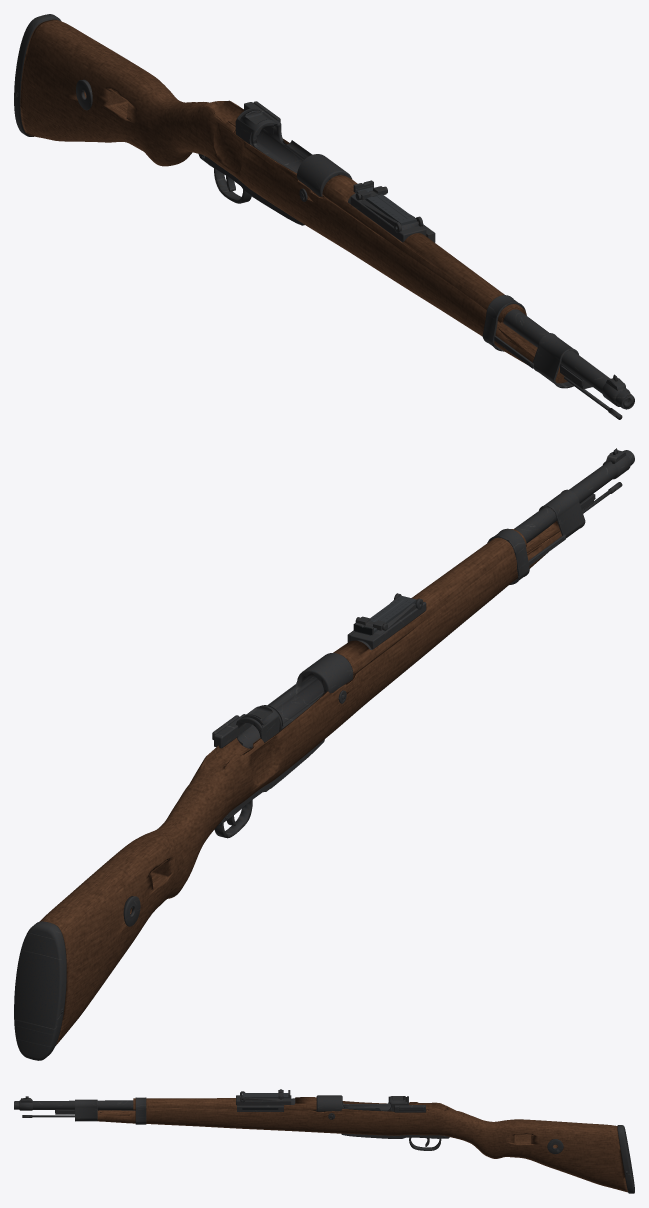
The model's file is SM_Kar98k_BoltBody_LOD1.fbx.
3 renders of one model, top to bottom at view 1: azimuth 30°, elevation 25°; view 2: azimuth 150°, elevation 25°; view 3: azimuth 270°, elevation 25°, orthographic. The views are drawn at different scales.
Visible parts, largest first — view 1: SM_Kar98k_Body_LOD1; view 2: SM_Kar98k_Body_LOD1; view 3: SM_Kar98k_Body_LOD1.
Part boxes in pixels (x1,y1,x2,y2): SM_Kar98k_Body_LOD1: (14,14,634,419); SM_Kar98k_Body_LOD1: (14,448,634,1060); SM_Kar98k_Body_LOD1: (14,1089,634,1193).
Size of the model in its own units: 5.32 by 110 by 19.66.
